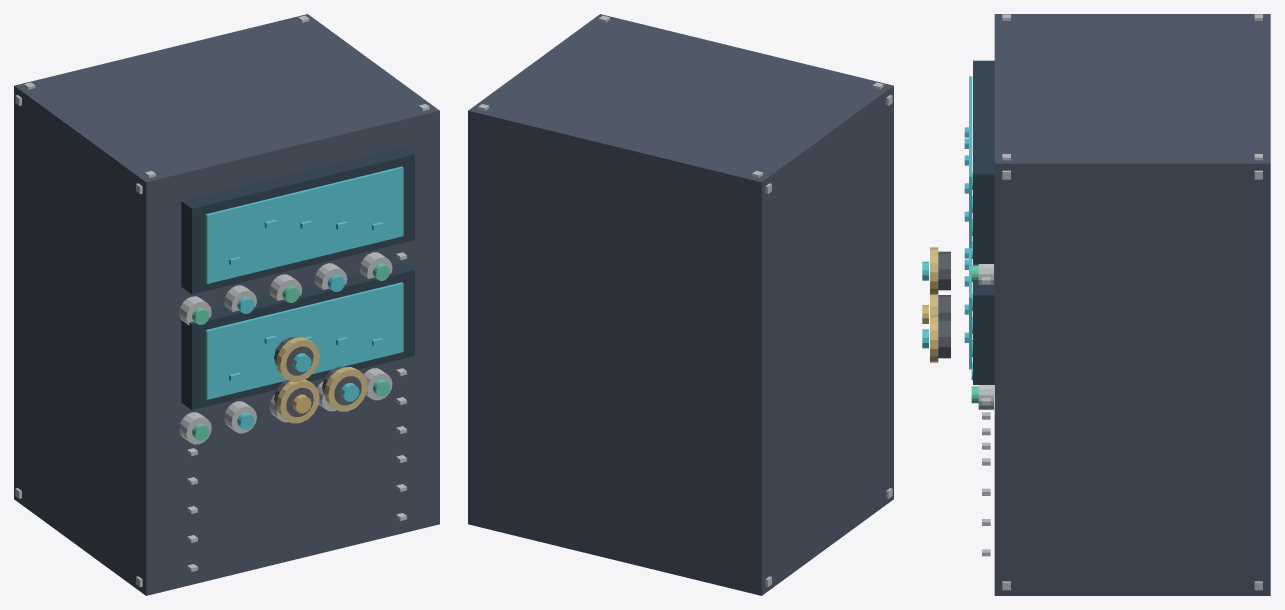
The model's file is 32_L82_SpectralCalibrationReferenceSource.glb.
3 renders of one model, left to right at view 1: azimuth 30°, elevation 25°; view 2: azimuth 150°, elevation 25°; view 3: azimuth 270°, elevation 25°, orthographic. The views are drawn at different scales.
Visible parts, largest first — view 1: SpectralCalibrationReferenceSource_Node_0000, SpectralCalibrationReferenceSource_Node_0010, SpectralCalibrationReferenceSource_Node_0027, SpectralCalibrationReferenceSource_Node_0009, SpectralCalibrationReferenceSource_Node_0026, SpectralCalibrationReferenceSource_Node_0073, SpectralCalibrationReferenceSource_Node_0076, SpectralCalibrationReferenceSource_Node_0070, SpectralCalibrationReferenceSource_Node_0033, SpectralCalibrationReferenceSource_Node_0035; view 2: SpectralCalibrationReferenceSource_Node_0000; view 3: SpectralCalibrationReferenceSource_Node_0000, SpectralCalibrationReferenceSource_Node_0009, SpectralCalibrationReferenceSource_Node_0026, SpectralCalibrationReferenceSource_Node_0010, SpectralCalibrationReferenceSource_Node_0072, SpectralCalibrationReferenceSource_Node_0075.
Boxes of the visible parts, x1=… form: SpectralCalibrationReferenceSource_Node_0000: x1=14, y1=14, x2=439, y2=595; SpectralCalibrationReferenceSource_Node_0010: x1=205, y1=166, x2=403, y2=283; SpectralCalibrationReferenceSource_Node_0027: x1=205, y1=282, x2=403, y2=399; SpectralCalibrationReferenceSource_Node_0009: x1=181, y1=147, x2=414, y2=294; SpectralCalibrationReferenceSource_Node_0026: x1=181, y1=262, x2=414, y2=410; SpectralCalibrationReferenceSource_Node_0073: x1=324, y1=367, x2=367, y2=411; SpectralCalibrationReferenceSource_Node_0076: x1=276, y1=337, x2=319, y2=381; SpectralCalibrationReferenceSource_Node_0070: x1=276, y1=379, x2=319, y2=423; SpectralCalibrationReferenceSource_Node_0033: x1=179, y1=412, x2=211, y2=444; SpectralCalibrationReferenceSource_Node_0035: x1=224, y1=401, x2=256, y2=433; SpectralCalibrationReferenceSource_Node_0000: x1=468, y1=14, x2=893, y2=595; SpectralCalibrationReferenceSource_Node_0000: x1=994, y1=14, x2=1270, y2=595; SpectralCalibrationReferenceSource_Node_0009: x1=973, y1=60, x2=994, y2=263; SpectralCalibrationReferenceSource_Node_0026: x1=973, y1=264, x2=994, y2=384; SpectralCalibrationReferenceSource_Node_0010: x1=969, y1=76, x2=972, y2=248; SpectralCalibrationReferenceSource_Node_0072: x1=938, y1=319, x2=950, y2=358; SpectralCalibrationReferenceSource_Node_0075: x1=938, y1=251, x2=950, y2=290.
Size of the model in its own units: 1.06 by 1.42 by 1.02.
